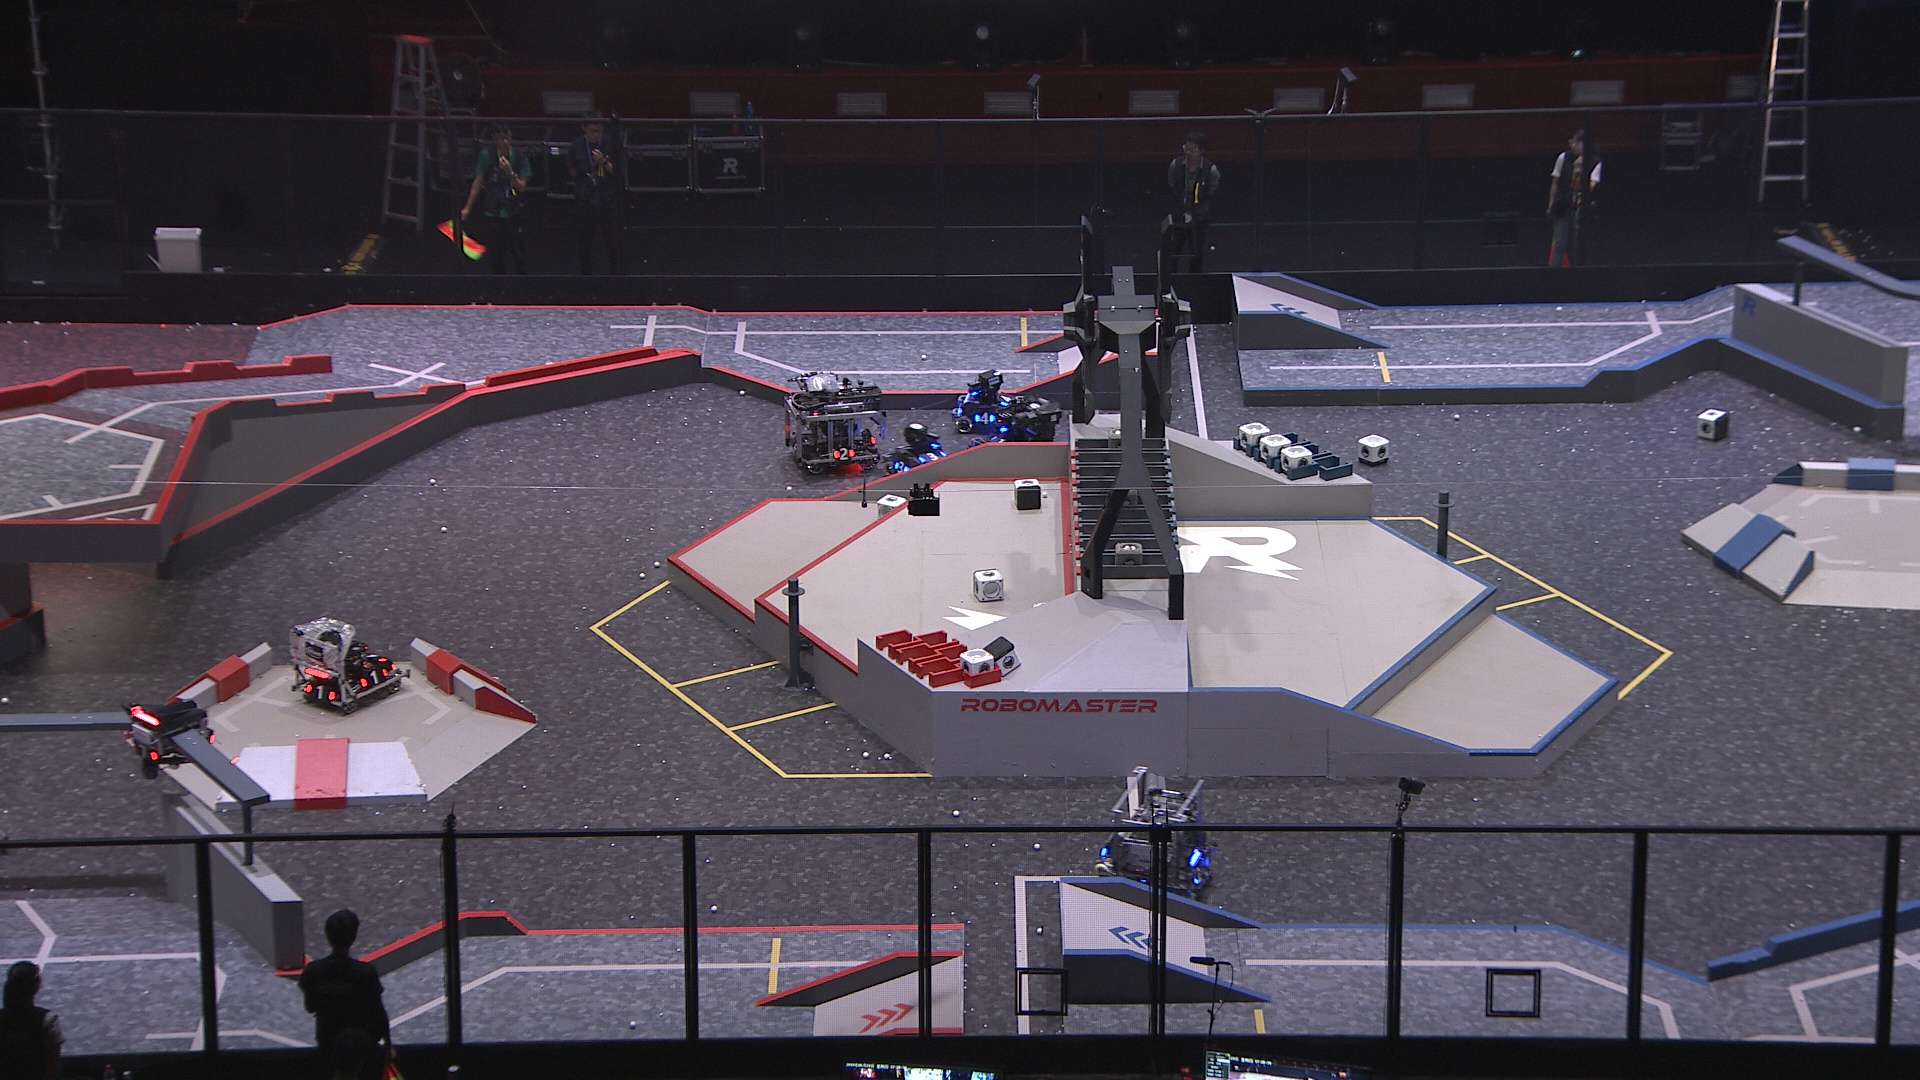armor: (128, 737, 162, 765), (305, 680, 338, 704), (359, 669, 390, 688), (916, 448, 949, 463), (831, 446, 858, 462), (1191, 866, 1209, 885), (367, 651, 392, 665), (973, 411, 998, 425), (893, 460, 910, 475), (989, 434, 1007, 444)
car: (1091, 766, 1216, 901), (289, 618, 411, 716), (782, 371, 889, 476), (975, 396, 1063, 469), (949, 368, 1026, 433), (882, 422, 953, 484)
watcher: (128, 695, 215, 783)
